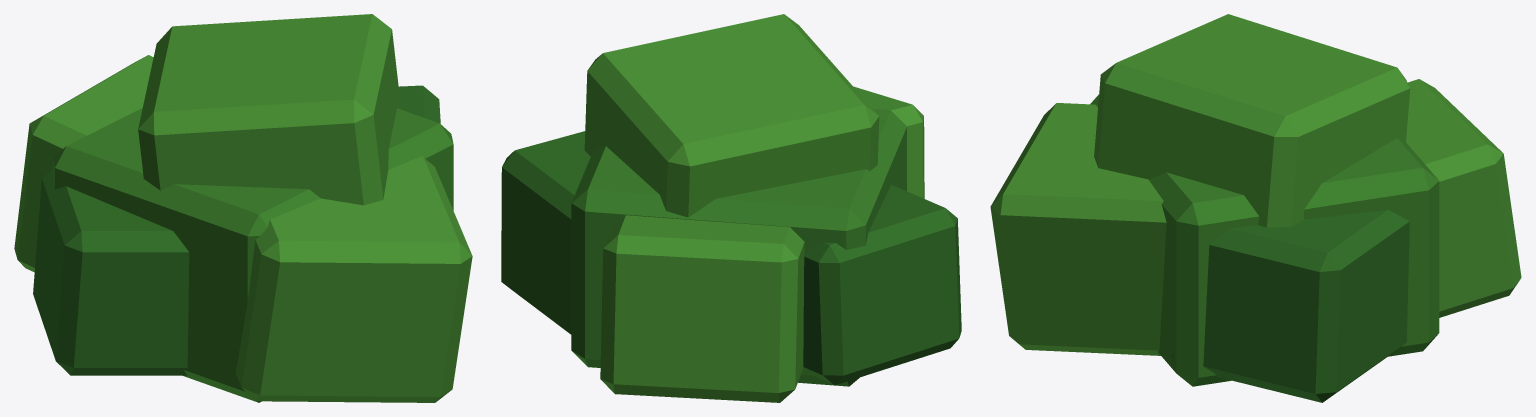
File: bush.glb
3 renders of one model, left to right at view 1: azimuth 30°, elevation 25°; view 2: azimuth 150°, elevation 25°; view 3: azimuth 270°, elevation 25°, orthographic. The views are drawn at different scales.
Parts seen in each view (by area): view 1: Grass__469230, Grass__2C6A22, Grass__387E28; view 2: Grass__469230, Grass__2C6A22, Grass__387E28; view 3: Grass__469230, Grass__2C6A22, Grass__387E28.
Part boxes in pixels (box(x1,y1,x2,y2)): Grass__469230: box(14, 14, 472, 402); Grass__2C6A22: box(33, 85, 440, 375); Grass__387E28: box(52, 108, 453, 402); Grass__469230: box(584, 14, 924, 402); Grass__2C6A22: box(501, 131, 961, 385); Grass__387E28: box(571, 108, 906, 386); Grass__469230: box(990, 14, 1521, 355); Grass__2C6A22: box(1172, 210, 1409, 402); Grass__387E28: box(1090, 94, 1439, 386).
Bounding box in the file's own units: 5.06 × 3.09 × 5.5.
